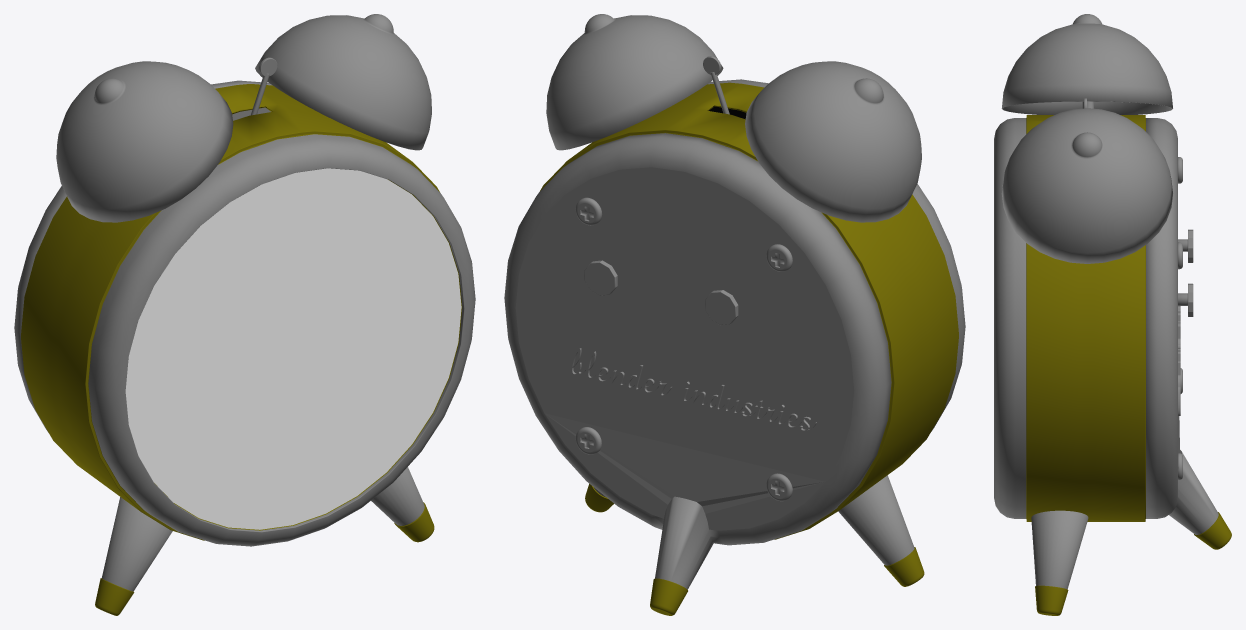
The model's file is clock.fbx.
The picture shows the model from 3 angles, left to right: view 1: azimuth 30°, elevation 25°; view 2: azimuth 150°, elevation 25°; view 3: azimuth 270°, elevation 25°; orthographic projection. The views are drawn at different scales.
Parts seen in each view (by area): view 1: vetro_0, Sfera_0, Cerchio.001_0, Cerchio_0, Cilindro.001_0, Cerchio.004_0, Cilindro.002_0, Cerchio.003_0; view 2: Cerchio.004_0, Sfera_0, Cerchio_0, Cilindro.001_0, Cerchio.011_0, Cerchio.001_0, Cilindro.002_0, Cilindro.003_0, Cerchio.007_0, Cerchio.008_0; view 3: Sfera_0, Cerchio_0, Cerchio.004_0, Cerchio.001_0, Cilindro.001_0, Cilindro.002_0, Cilindro.003_0, Cerchio.011_0.
Boxes of the visible parts, <box> form: vetro_0: <box>125,168,461,529</box>; Sfera_0: <box>56,14,431,222</box>; Cerchio.001_0: <box>88,134,475,546</box>; Cerchio_0: <box>21,84,439,540</box>; Cilindro.001_0: <box>102,467,424,591</box>; Cerchio.004_0: <box>14,80,272,432</box>; Cilindro.002_0: <box>95,502,434,615</box>; Cerchio.003_0: <box>154,179,462,530</box>; Cerchio.004_0: <box>504,133,891,589</box>; Sfera_0: <box>546,14,921,222</box>; Cerchio_0: <box>540,82,958,539</box>; Cilindro.001_0: <box>594,475,914,565</box>; Cerchio.011_0: <box>575,197,792,501</box>; Cerchio.001_0: <box>708,79,965,431</box>; Cilindro.002_0: <box>585,483,924,586</box>; Cilindro.003_0: <box>650,578,687,615</box>; Cerchio.007_0: <box>584,260,617,295</box>; Cerchio.008_0: <box>705,290,738,324</box>; Sfera_0: <box>1001,14,1172,263</box>; Cerchio_0: <box>1026,115,1145,521</box>; Cerchio.004_0: <box>1146,118,1218,534</box>; Cerchio.001_0: <box>994,118,1026,518</box>; Cilindro.001_0: <box>1031,510,1088,589</box>; Cilindro.002_0: <box>1035,585,1068,615</box>; Cilindro.003_0: <box>1194,512,1231,549</box>; Cerchio.011_0: <box>1178,157,1182,479</box>.
Size of the model in its own units: 203 by 261 by 118.
